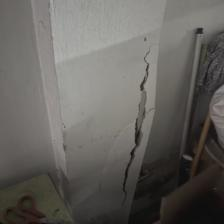High: (109, 29, 167, 224)
